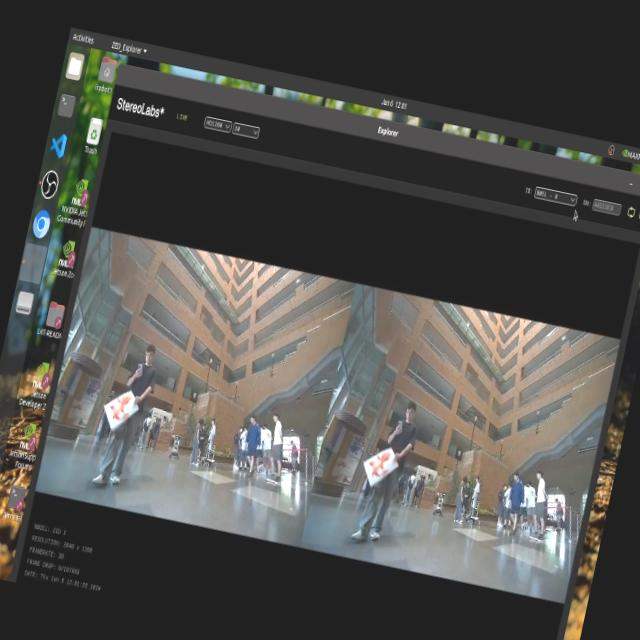red: (357, 442, 404, 490), (105, 390, 138, 429)
